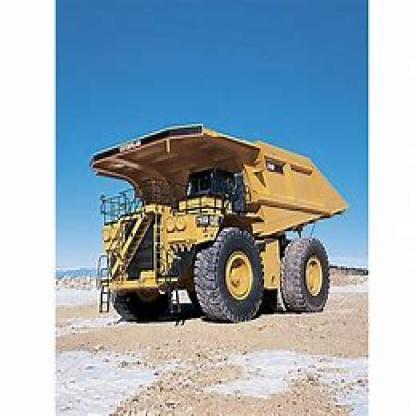dump_truck: (82, 122, 347, 331)
